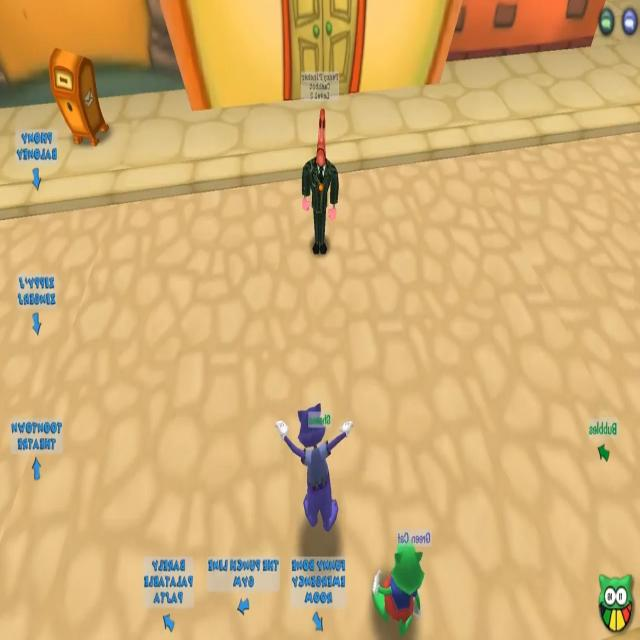pennypincher: (300, 111, 338, 257)
